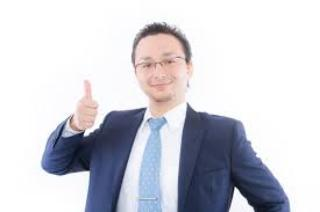person - v3 P: (57, 15, 289, 212)
